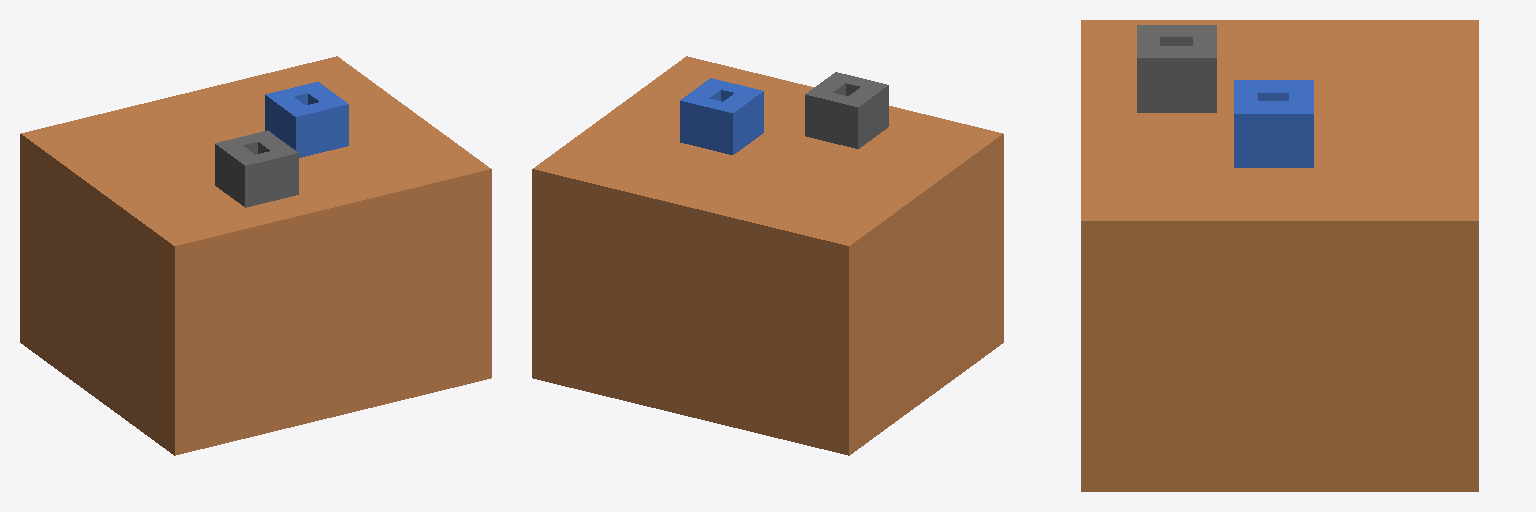
robot.urdf — peg_in_hole_fixtured_scene_0033_peg0006_tol03:
<?xml version="1.0"?>
<robot name="peg_in_hole_fixtured_scene_0033_peg0006_tol03">
  <material name="wood"><color rgba="0.82 0.56 0.35 1.0"/></material>
  <material name="start_fix"><color rgba="0.30 0.50 0.85 1.0"/></material>
  <material name="goal_fix"><color rgba="0.4706 0.4706 0.4706 1.0"/></material>
  <link name="box">
    <visual>
      <origin xyz="0.000000 0.000000 0.000000" rpy="0 0 0"/>
      <geometry><box size="0.475000 0.400000 0.300000"/></geometry>
      <material name="wood"/>
    </visual>
    <collision>
      <origin xyz="0.000000 0.000000 0.000000" rpy="0 0 0"/>
      <geometry><box size="0.475000 0.400000 0.300000"/></geometry>
    </collision>
    <visual>
      <origin xyz="0.072686 -0.006382 0.155000" rpy="0 0 0"/>
      <geometry><box size="0.080000 0.080000 0.010000"/></geometry>
      <material name="start_fix"/>
    </visual>
    <collision>
      <origin xyz="0.072686 -0.006382 0.155000" rpy="0 0 0"/>
      <geometry><box size="0.080000 0.080000 0.010000"/></geometry>
    </collision>
    <visual>
      <origin xyz="0.097936 -0.006382 0.185000" rpy="0 0 0"/>
      <geometry><box size="0.029500 0.080000 0.050000"/></geometry>
      <material name="start_fix"/>
    </visual>
    <collision>
      <origin xyz="0.097936 -0.006382 0.185000" rpy="0 0 0"/>
      <geometry><box size="0.029500 0.080000 0.050000"/></geometry>
    </collision>
    <visual>
      <origin xyz="0.047436 -0.006382 0.185000" rpy="0 0 0"/>
      <geometry><box size="0.029500 0.080000 0.050000"/></geometry>
      <material name="start_fix"/>
    </visual>
    <collision>
      <origin xyz="0.047436 -0.006382 0.185000" rpy="0 0 0"/>
      <geometry><box size="0.029500 0.080000 0.050000"/></geometry>
    </collision>
    <visual>
      <origin xyz="0.072686 0.021368 0.185000" rpy="0 0 0"/>
      <geometry><box size="0.021000 0.024500 0.050000"/></geometry>
      <material name="start_fix"/>
    </visual>
    <collision>
      <origin xyz="0.072686 0.021368 0.185000" rpy="0 0 0"/>
      <geometry><box size="0.021000 0.024500 0.050000"/></geometry>
    </collision>
    <visual>
      <origin xyz="0.072686 -0.034132 0.185000" rpy="0 0 0"/>
      <geometry><box size="0.021000 0.024500 0.050000"/></geometry>
      <material name="start_fix"/>
    </visual>
    <collision>
      <origin xyz="0.072686 -0.034132 0.185000" rpy="0 0 0"/>
      <geometry><box size="0.021000 0.024500 0.050000"/></geometry>
    </collision>
    <visual>
      <origin xyz="-0.058763 -0.103659 0.155000" rpy="0 0 0"/>
      <geometry><box size="0.080000 0.080000 0.010000"/></geometry>
      <material name="goal_fix"/>
    </visual>
    <collision>
      <origin xyz="-0.058763 -0.103659 0.155000" rpy="0 0 0"/>
      <geometry><box size="0.080000 0.080000 0.010000"/></geometry>
    </collision>
    <visual>
      <origin xyz="-0.032991 -0.103659 0.185000" rpy="0 0 0"/>
      <geometry><box size="0.028456 0.080000 0.050000"/></geometry>
      <material name="goal_fix"/>
    </visual>
    <collision>
      <origin xyz="-0.032991 -0.103659 0.185000" rpy="0 0 0"/>
      <geometry><box size="0.028456 0.080000 0.050000"/></geometry>
    </collision>
    <visual>
      <origin xyz="-0.084535 -0.103659 0.185000" rpy="0 0 0"/>
      <geometry><box size="0.028456 0.080000 0.050000"/></geometry>
      <material name="goal_fix"/>
    </visual>
    <collision>
      <origin xyz="-0.084535 -0.103659 0.185000" rpy="0 0 0"/>
      <geometry><box size="0.028456 0.080000 0.050000"/></geometry>
    </collision>
    <visual>
      <origin xyz="-0.058763 -0.075387 0.185000" rpy="0 0 0"/>
      <geometry><box size="0.023088 0.023456 0.050000"/></geometry>
      <material name="goal_fix"/>
    </visual>
    <collision>
      <origin xyz="-0.058763 -0.075387 0.185000" rpy="0 0 0"/>
      <geometry><box size="0.023088 0.023456 0.050000"/></geometry>
    </collision>
    <visual>
      <origin xyz="-0.058763 -0.131931 0.185000" rpy="0 0 0"/>
      <geometry><box size="0.023088 0.023456 0.050000"/></geometry>
      <material name="goal_fix"/>
    </visual>
    <collision>
      <origin xyz="-0.058763 -0.131931 0.185000" rpy="0 0 0"/>
      <geometry><box size="0.023088 0.023456 0.050000"/></geometry>
    </collision>
    <inertial>
      <mass value="500"/>
      <friction value="1.0"/>
      <inertia ixx="1000.0" ixy="0.0" ixz="0.0" iyy="1000.0" iyz="0.0" izz="1000.0"/>
    </inertial>
  </link>
</robot>

--- Render facts (derived) ---
The picture shows the robot from 3 angles, left to right: view 1: azimuth 30°, elevation 25°; view 2: azimuth 150°, elevation 25°; view 3: azimuth 270°, elevation 25°; orthographic projection.
Robot: peg_in_hole_fixtured_scene_0033_peg0006_tol03 — 1 links, 0 joints (none); root link box; default pose: all joints at 0.
Links seen in each view (by area): view 1: box; view 2: box; view 3: box.
Boxes of the visible links, x1,y1,x2,y2 form: box: [20, 56, 491, 455]; box: [532, 56, 1003, 455]; box: [1081, 20, 1478, 491].
Bounding box of the posed robot: 0.475 × 0.4 × 0.36 m (x, y, z).
Geometry: primitives only (box / cylinder / sphere), no mesh files.
